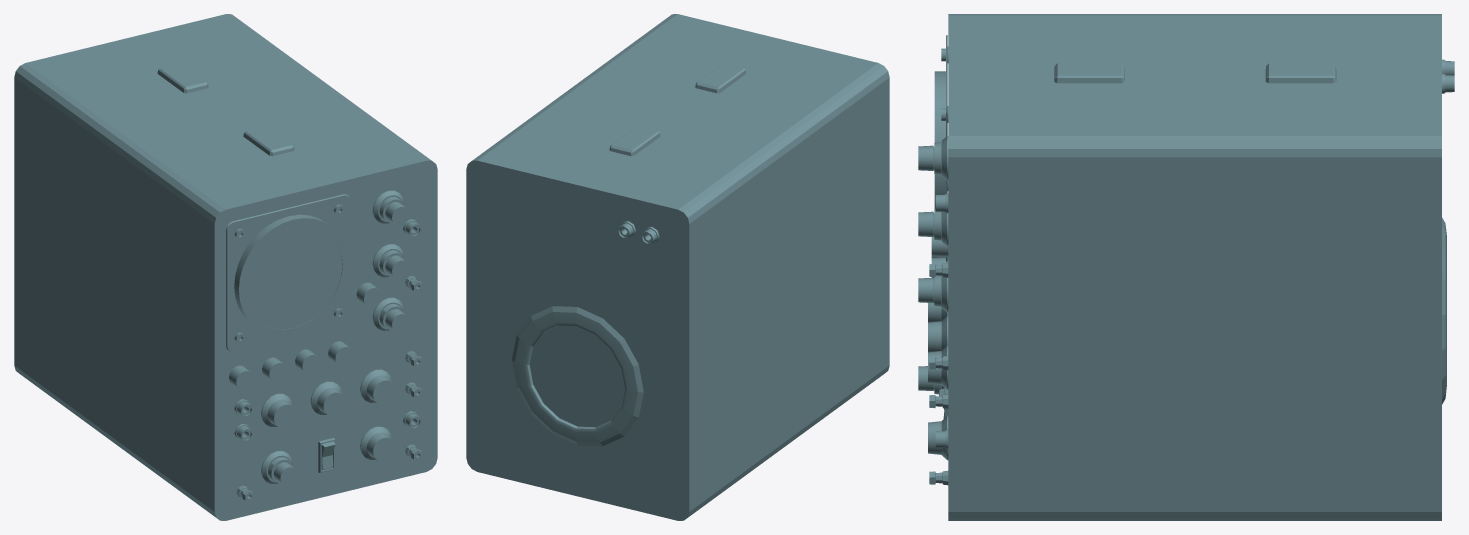
Rendered from oscilliscope_low.fbx.
3 renders of one model, left to right at view 1: azimuth 30°, elevation 25°; view 2: azimuth 150°, elevation 25°; view 3: azimuth 270°, elevation 25°, orthographic. The views are drawn at different scales.
Visible parts, largest first — view 1: oscilliscope_low; view 2: oscilliscope_low; view 3: oscilliscope_low.
Boxes of the visible parts, <box> form: oscilliscope_low: <box>14,14,437,520</box>; oscilliscope_low: <box>466,14,889,520</box>; oscilliscope_low: <box>918,14,1454,520</box>.
Bounding box in the file's own units: 45 × 61 × 76.08.
